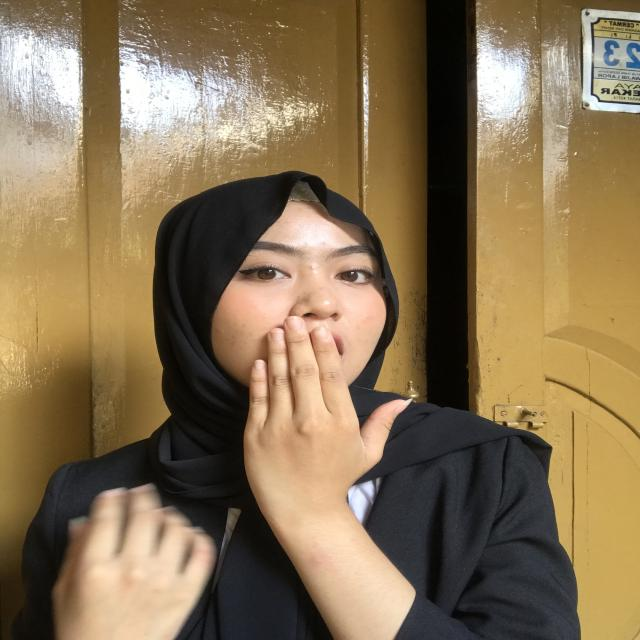ngantuk: (212, 311, 408, 514)
